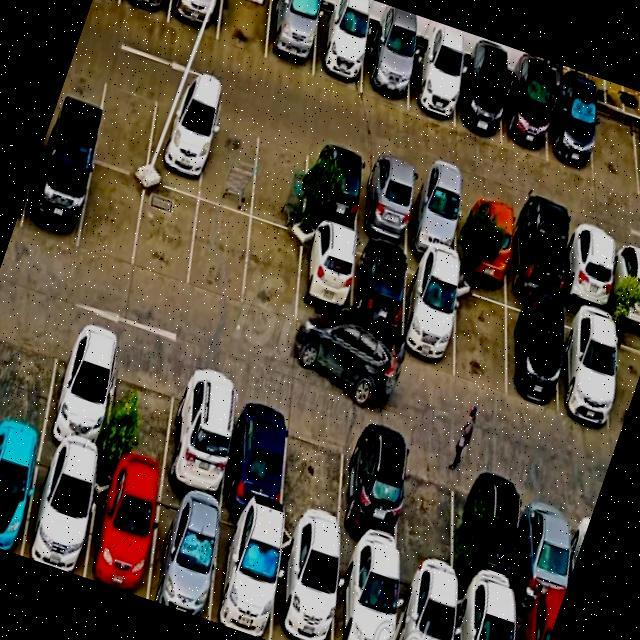Car: (142, 392, 242, 515), (320, 442, 414, 562), (29, 354, 124, 472), (73, 480, 167, 594), (138, 503, 232, 617), (208, 418, 296, 538), (444, 474, 531, 594), (202, 522, 292, 637), (548, 319, 634, 435), (500, 501, 586, 614), (14, 463, 102, 573), (390, 265, 474, 374), (496, 301, 578, 411), (138, 86, 223, 190), (262, 547, 355, 640), (446, 184, 526, 292), (498, 208, 578, 316), (342, 245, 421, 352), (283, 230, 365, 330), (290, 139, 372, 237), (547, 228, 624, 332), (446, 38, 522, 142), (18, 148, 98, 245), (402, 20, 474, 123), (494, 56, 567, 157), (540, 68, 612, 170), (356, 4, 429, 104), (394, 174, 468, 268), (323, 564, 413, 640), (307, 0, 381, 87), (350, 159, 420, 249), (256, 0, 334, 76), (384, 583, 470, 640), (0, 440, 43, 552), (595, 241, 640, 347), (438, 601, 533, 640), (164, 0, 235, 32), (624, 96, 640, 193)
Vacant: (91, 372, 183, 491), (264, 433, 357, 546), (382, 461, 469, 576), (438, 289, 524, 392), (0, 322, 68, 451), (124, 178, 206, 280), (192, 110, 272, 214), (70, 168, 152, 266), (247, 126, 325, 227), (83, 80, 163, 175), (230, 218, 308, 314), (181, 200, 256, 292), (580, 90, 640, 186), (209, 0, 287, 58)
